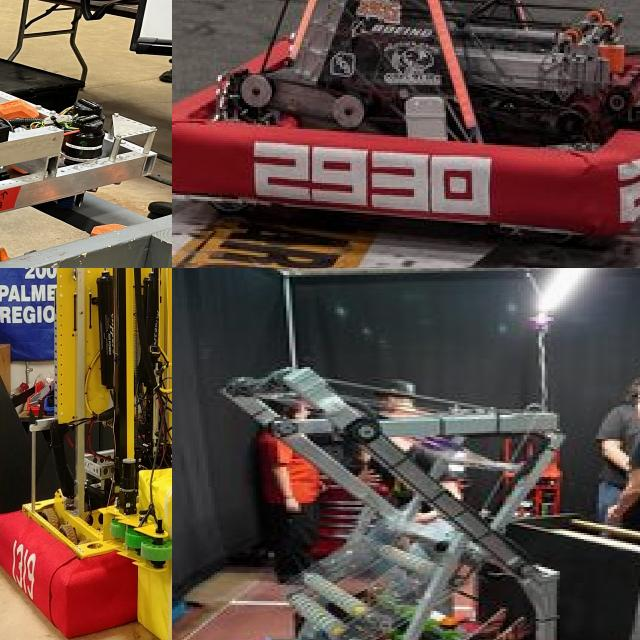FRC-Robots: (172, 365, 640, 640), (172, 0, 640, 239), (0, 268, 172, 640), (0, 0, 157, 259)
